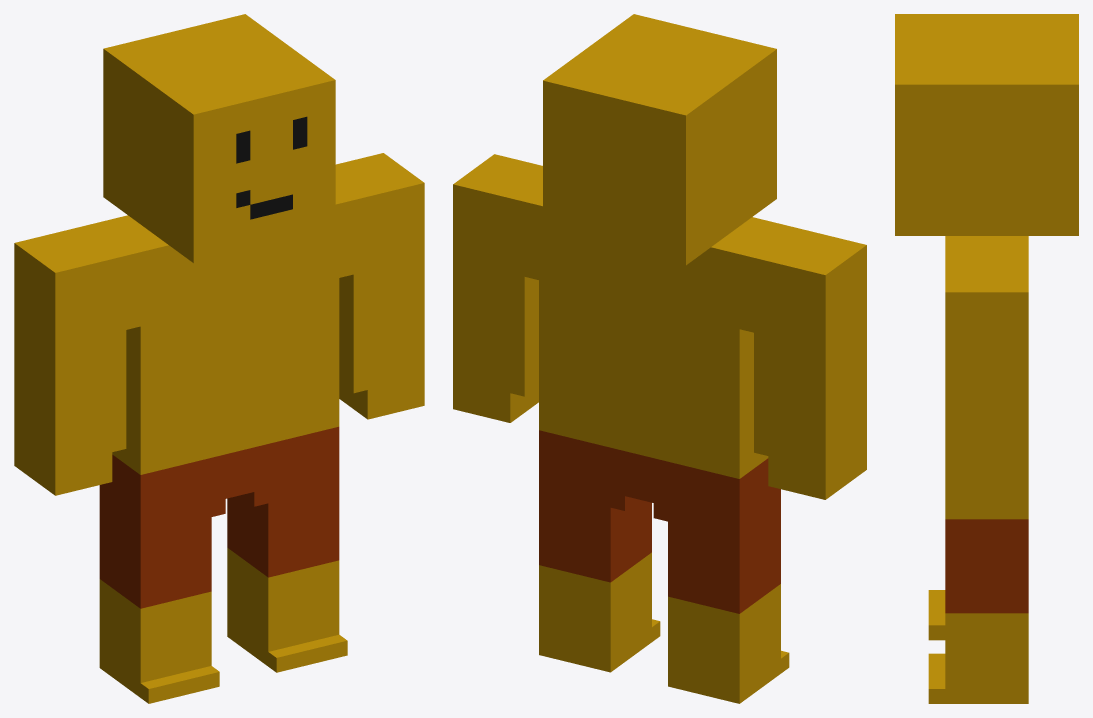
3 views of the same model, side by side, from view 1: azimuth 30°, elevation 25°; view 2: azimuth 150°, elevation 25°; view 3: azimuth 270°, elevation 25° (orthographic).
Visible parts, largest first — view 1: Node1; view 2: Node1; view 3: Node1.
Part boxes in pixels (bbox=[...]): Node1: bbox=[14, 14, 424, 703]; Node1: bbox=[453, 14, 866, 703]; Node1: bbox=[895, 14, 1078, 703].
Size of the model in its own units: 2.6 by 4 by 1.1.
Materials: 1 (1 with a texture image).
